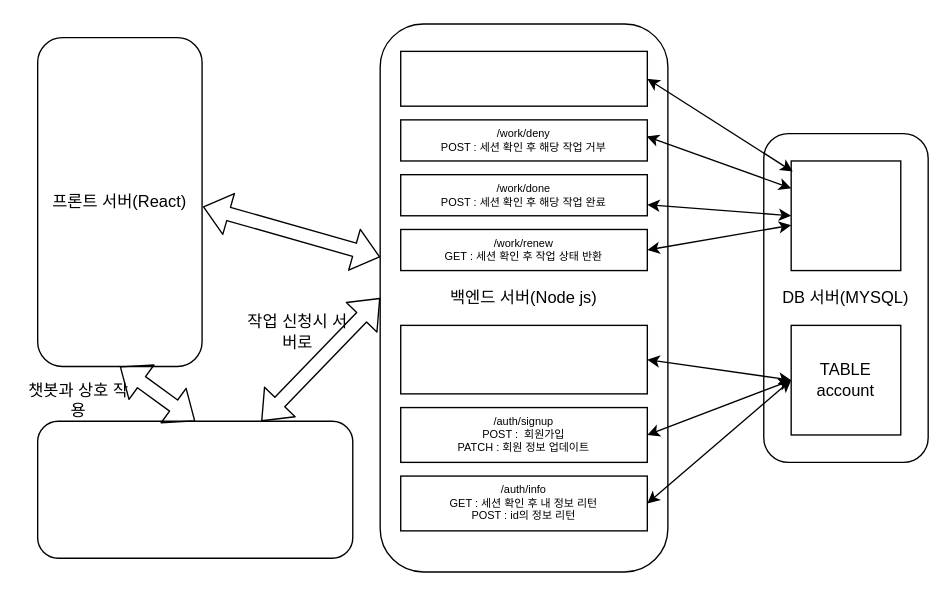
Some shapes in this 952 by 596 pixel diagram are drawn without their labels. Each missing label, with the centre of its shape:
"/auth/login GET : 로그인 세션 확인 POST : 로그인 DELETE : 로그인 세션 파괴" goes at pixel 523 359.
"/work GET : 세션 확인 후 해당 작업 리턴 POST : 작업 생성" goes at pixel 523 78.
"TABLE works" goes at pixel 845 215.
"챗봇 (Google DialogFlow)" goes at pixel 194 489.
